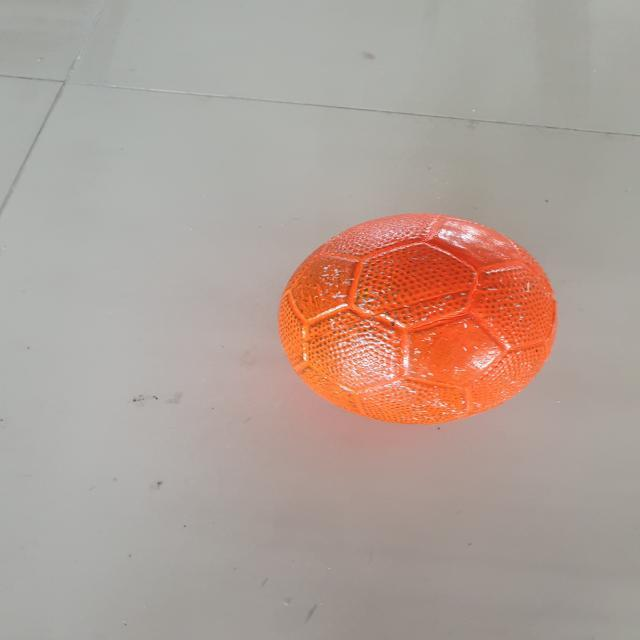bola: (274, 205, 560, 426)
